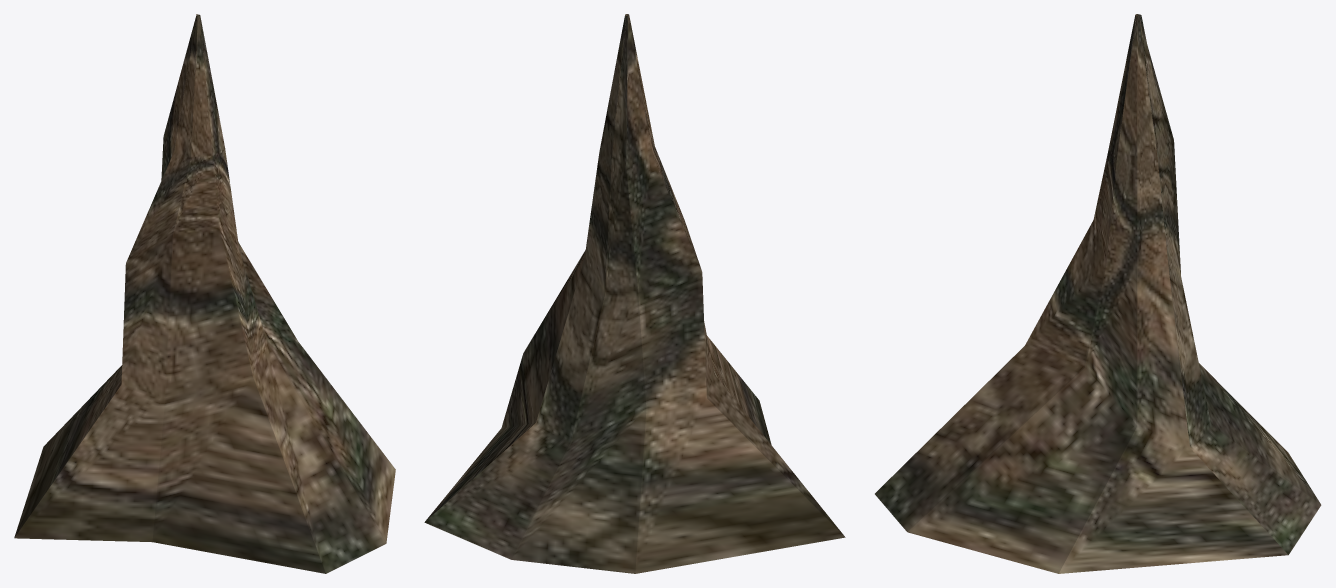
Rendered from rock.fbx.
3 views of the same model, side by side, from view 1: azimuth 30°, elevation 25°; view 2: azimuth 150°, elevation 25°; view 3: azimuth 270°, elevation 25° (orthographic). The views are drawn at different scales.
Visible parts, largest first — view 1: pCylinder1; view 2: pCylinder1; view 3: pCylinder1.
Boxes of the visible parts, bbox=[...] form: pCylinder1: bbox=[14, 14, 395, 573]; pCylinder1: bbox=[424, 14, 845, 573]; pCylinder1: bbox=[875, 14, 1321, 573].
Bounding box in the file's own units: 5.71 × 7.12 × 6.02.
Materials: 1 (1 with a texture image).
